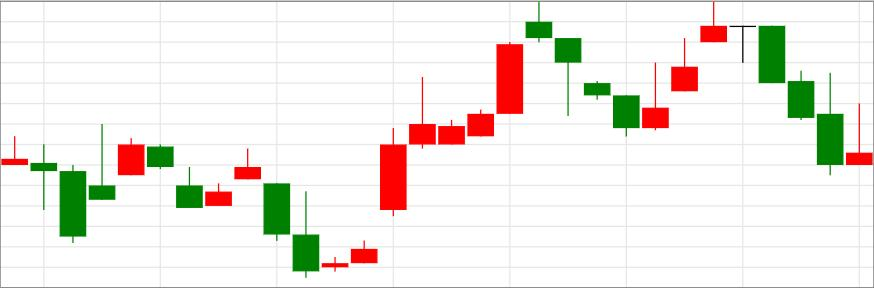three_black_crows_fall: (642, 1, 843, 176)
